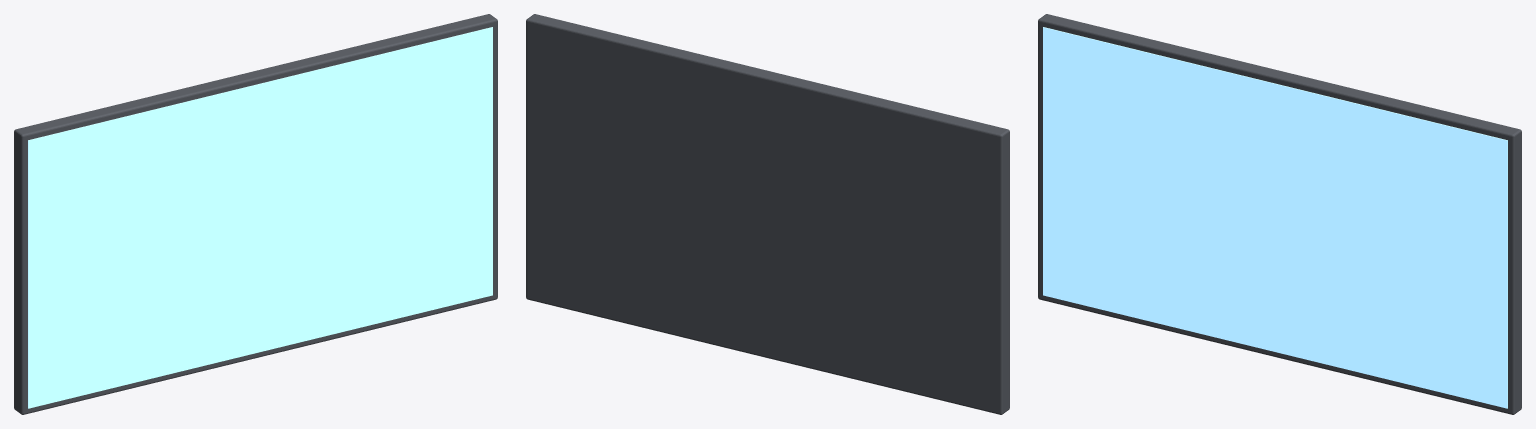
Rendered from wall_screen_wide_blue.glb.
3 renders of one model, left to right at view 1: azimuth 30°, elevation 25°; view 2: azimuth 150°, elevation 25°; view 3: azimuth 330°, elevation 25°, orthographic.
Parts seen in each view (by area): view 1: GD_wall_screen_wide_blue__m1, GD_wall_screen_wide_blue__m0; view 2: GD_wall_screen_wide_blue__m0; view 3: GD_wall_screen_wide_blue__m1, GD_wall_screen_wide_blue__m0.
Boxes of the visible parts, bbox=[...] form: GD_wall_screen_wide_blue__m1: bbox=[28, 27, 492, 408]; GD_wall_screen_wide_blue__m0: bbox=[14, 14, 497, 414]; GD_wall_screen_wide_blue__m0: bbox=[526, 14, 1009, 414]; GD_wall_screen_wide_blue__m1: bbox=[1043, 27, 1507, 408]; GD_wall_screen_wide_blue__m0: bbox=[1038, 14, 1521, 414].
Bounding box in the file's own units: 1.6 × 0.9 × 0.053.
